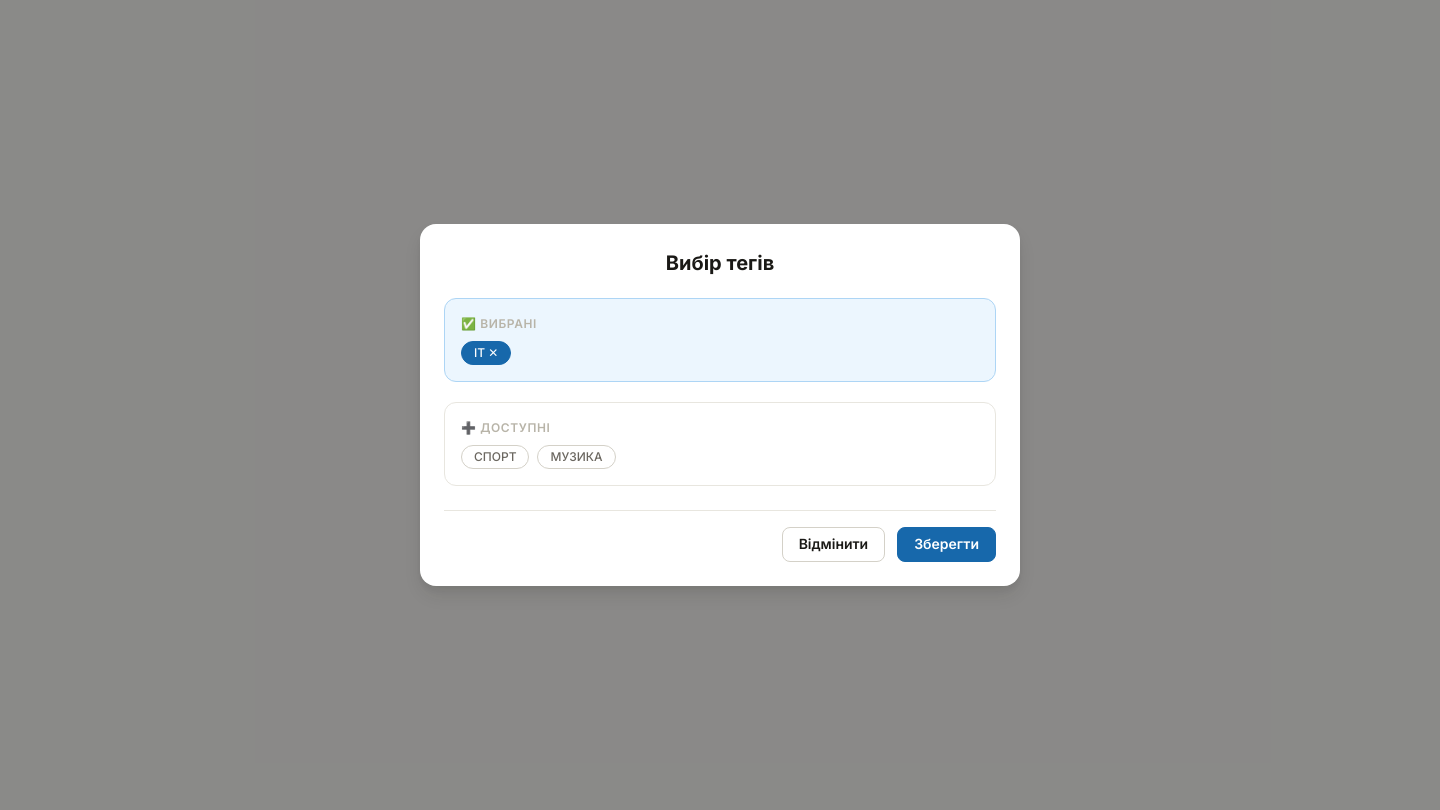
Scenario: TagSelectionModal — модальне вікно вибору тегів › прибирає тег із «Вибрані» при повторному кліку (toggle off)
The width and height of the screenshot is (1440, 810).
Act — клік по вибраному бейджу знімає вибір
Click the button "IT ✕" at (486, 353), box [461,341,511,365]
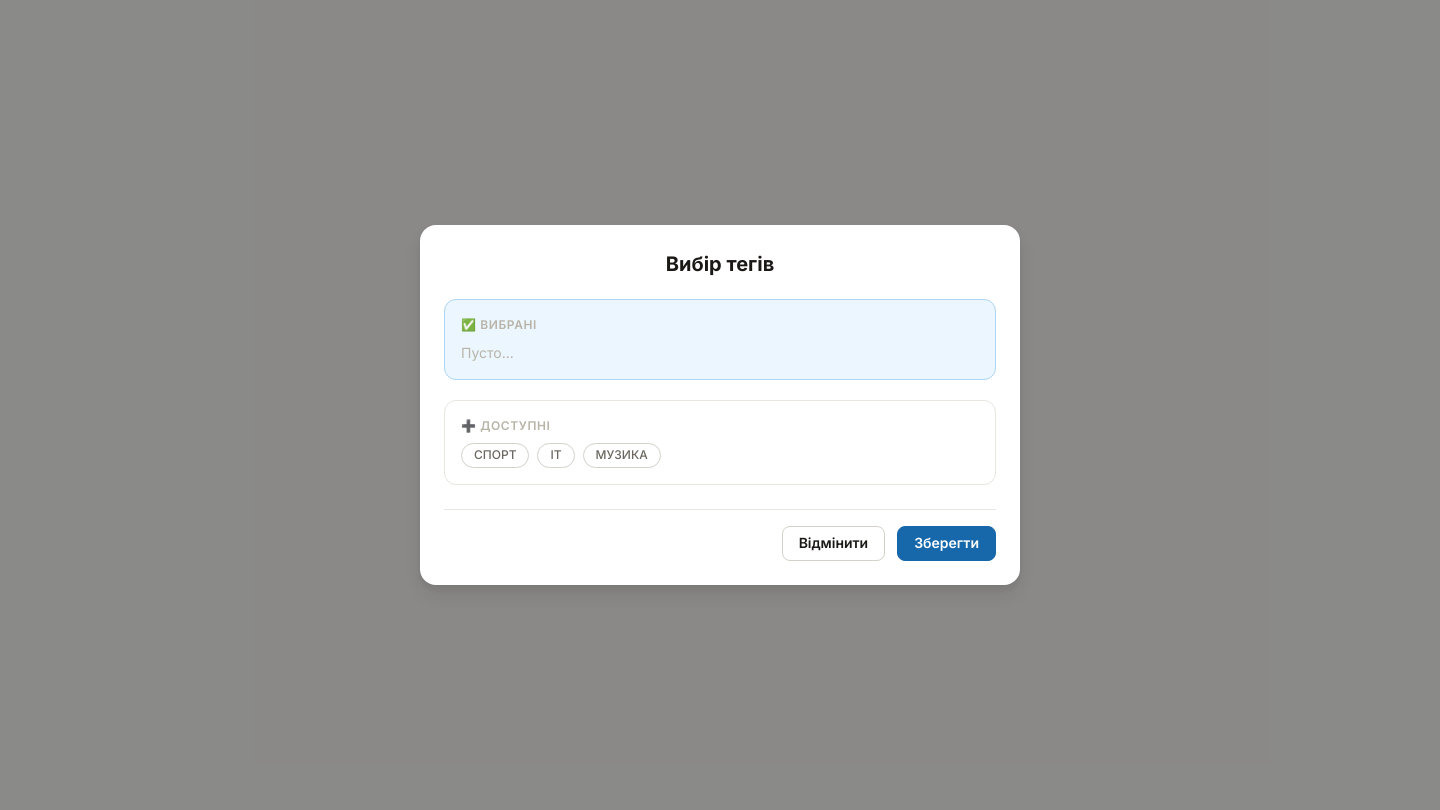
Result: the button "IT ✕" is gone
Result: the text "Пусто..." is shown at [461,342,514,363]
